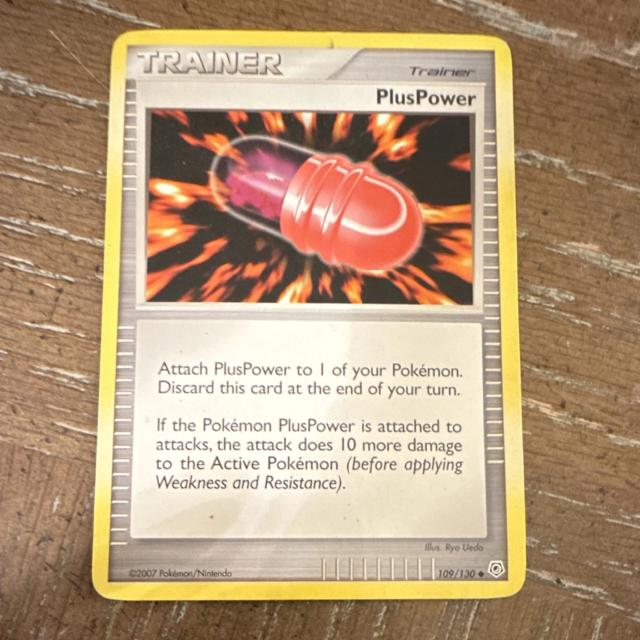Card: (84, 25, 532, 608)
Name: (369, 84, 480, 110)
